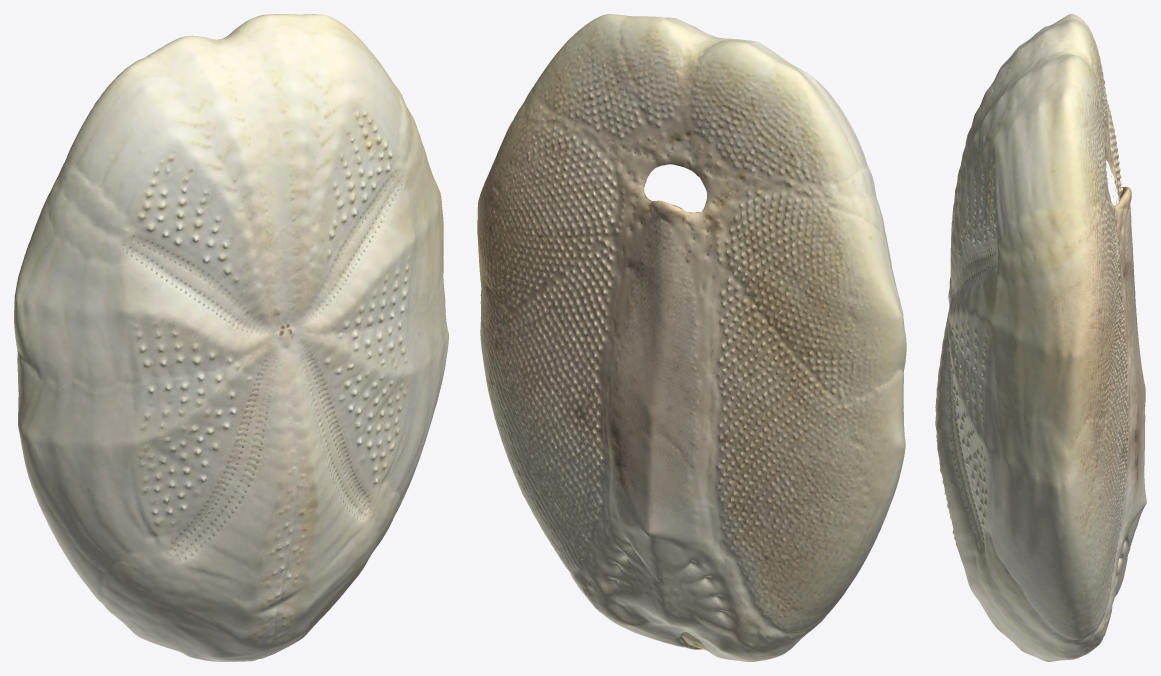
3 views of the same model, side by side, from view 1: azimuth 30°, elevation 25°; view 2: azimuth 150°, elevation 25°; view 3: azimuth 270°, elevation 25° (orthographic). The views are drawn at different scales.
Visible parts, largest first — view 1: Plagiobrissus_grandis-unwrapped-webmulti; view 2: Plagiobrissus_grandis-unwrapped-webmulti; view 3: Plagiobrissus_grandis-unwrapped-webmulti.
Part boxes in pixels (x1,y1,x2,y2): Plagiobrissus_grandis-unwrapped-webmulti: (14, 14, 448, 661); Plagiobrissus_grandis-unwrapped-webmulti: (477, 14, 906, 661); Plagiobrissus_grandis-unwrapped-webmulti: (935, 14, 1146, 661).
Size of the model in its own units: 4576 by 6445 by 2048.
Materials: 1 (1 with a texture image).
